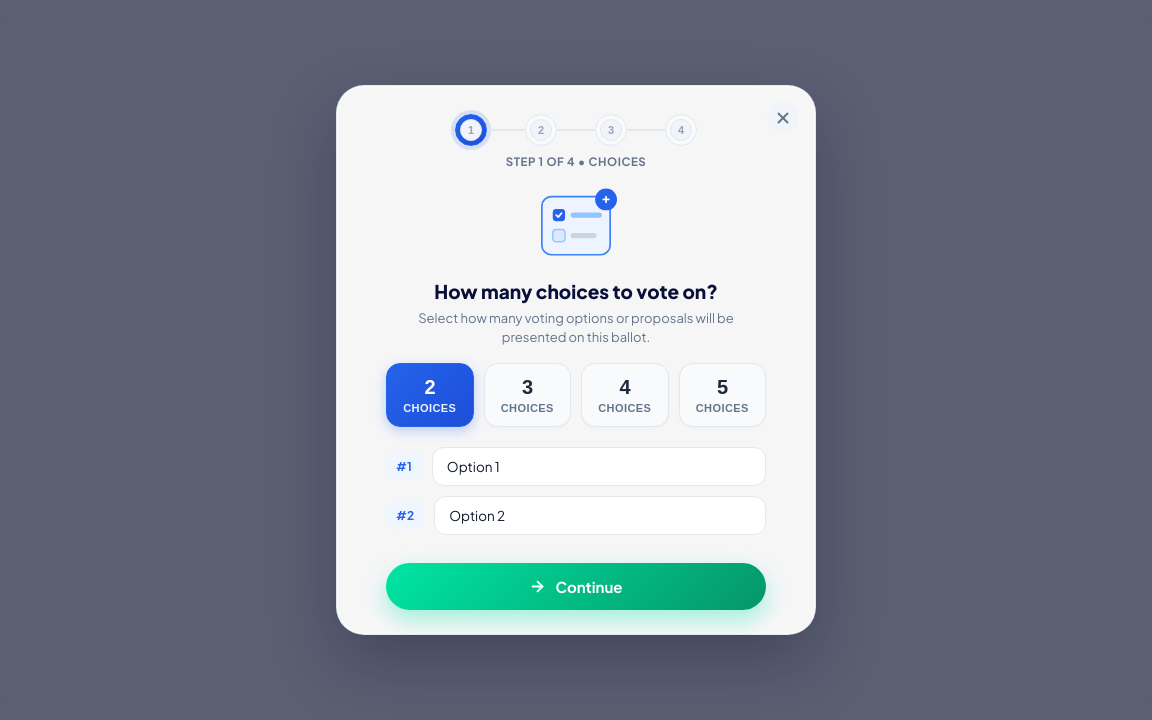
Test case: NewEventModal Component › selecting a different choice count dynamically adjusts input rows
The width and height of the screenshot is (1152, 720).
Click the button "4 Choices" at (625, 395), box [581,363,668,427]
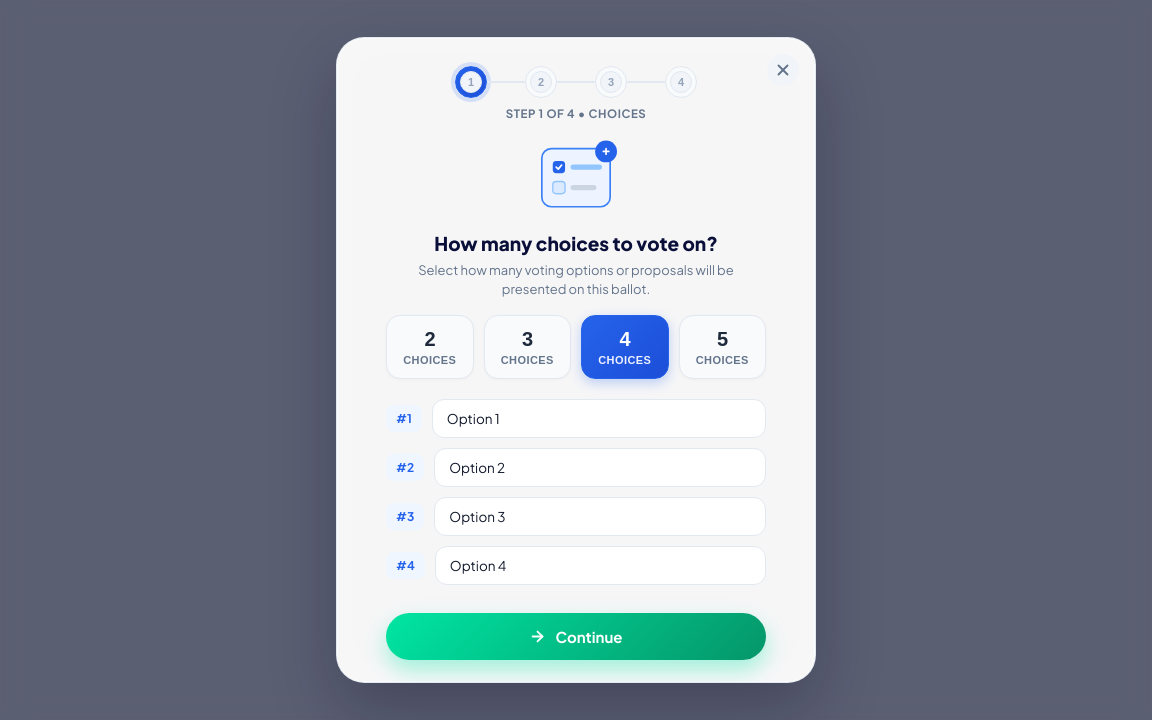
Expected: the 3rd field with placeholder "Name for Option 3" is shown, [434,497,766,536]
Expected: the 4th field with placeholder "Name for Option 4" is shown, [435,546,766,585]
